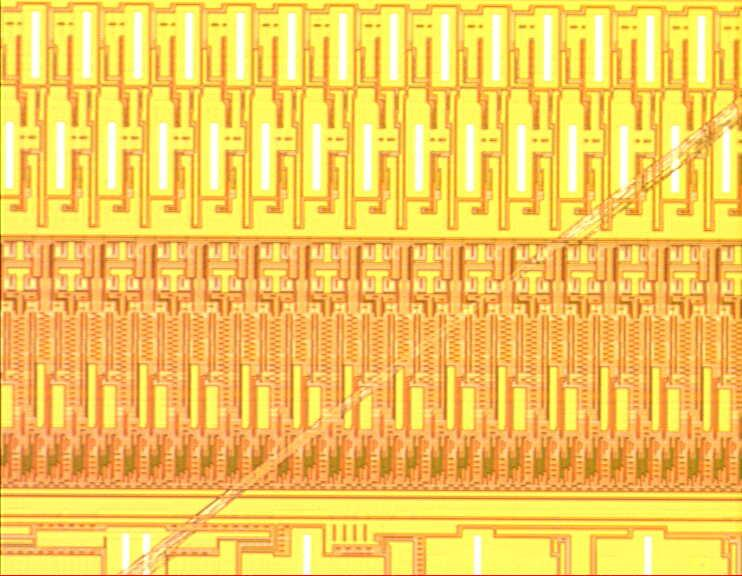SCRATCH: (103, 87, 742, 576)
